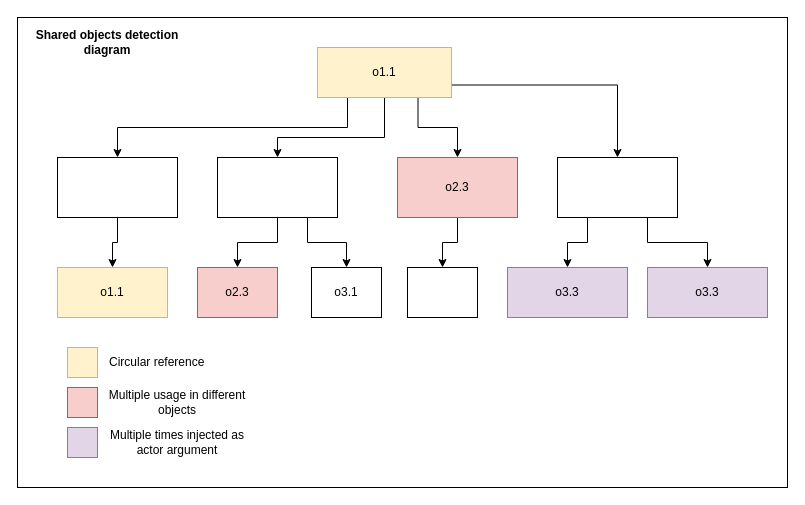
The diagram is 805 pixels wide and 505 high, and some of its shapes have lost their labels. Here are the shapes that lost their labels. From the top down, the box of each, then its label:
(56, 156, 178, 218): o2.1
(216, 156, 338, 218): o2.2
(556, 156, 678, 218): o2.4
(406, 266, 478, 318): o3.2
